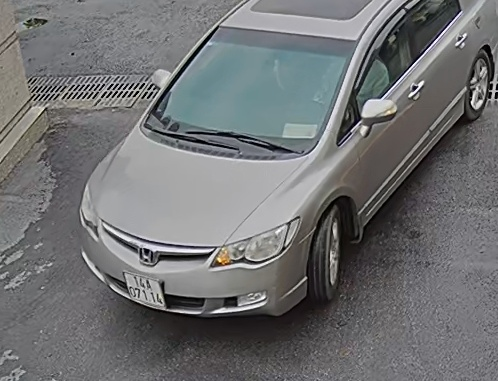vehicle plate: (122, 268, 166, 311)
